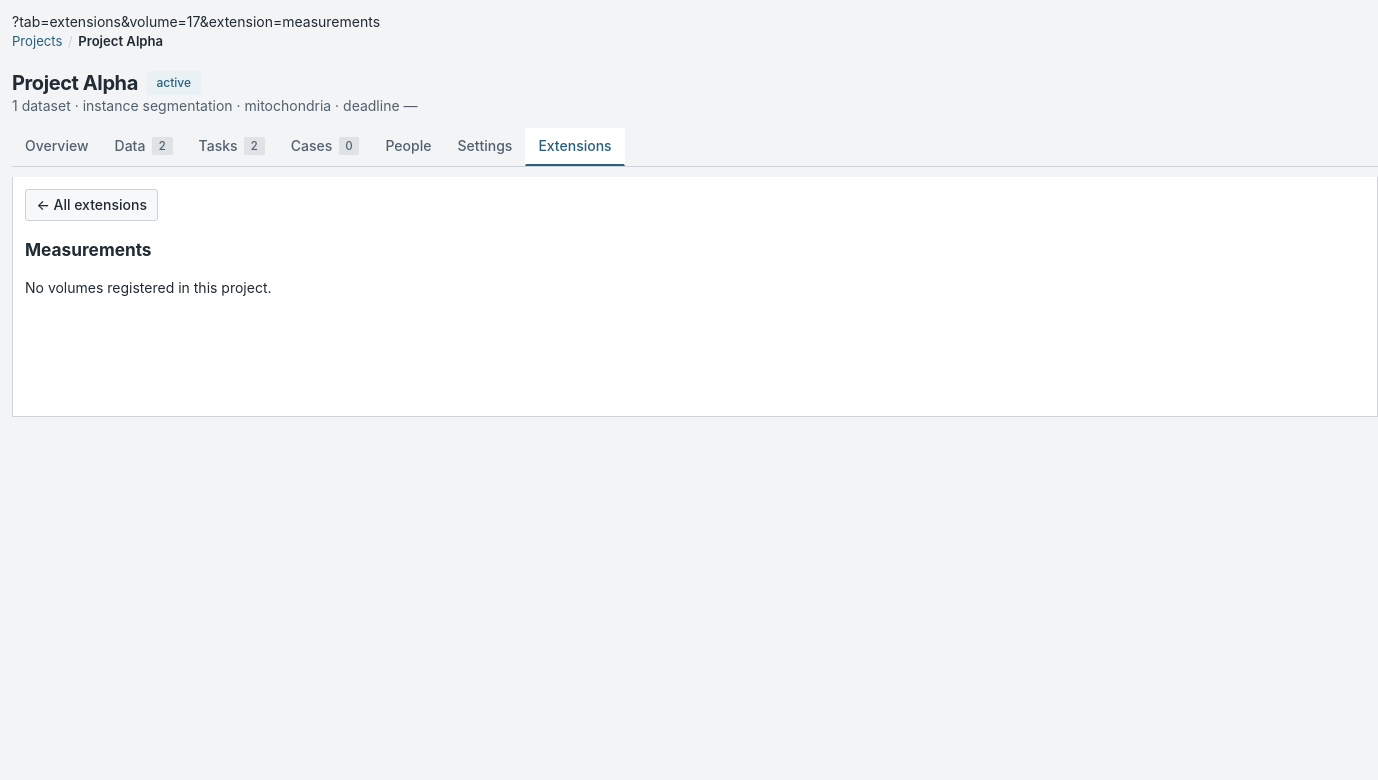
ProjectDetailPage tabs › preserves volume selection in legacy Measurements links
This screenshot has width=1378, height=780.
Expected: the text "No volumes registered in this project." is shown, [25,279,272,296]
Expected: the text named "Current project URL" reads "?tab=extensions&volume=17&extension=measurements", [12,13,380,30]
Click the button "← All extensions". click: (92,205)
box: [25,189,158,221]
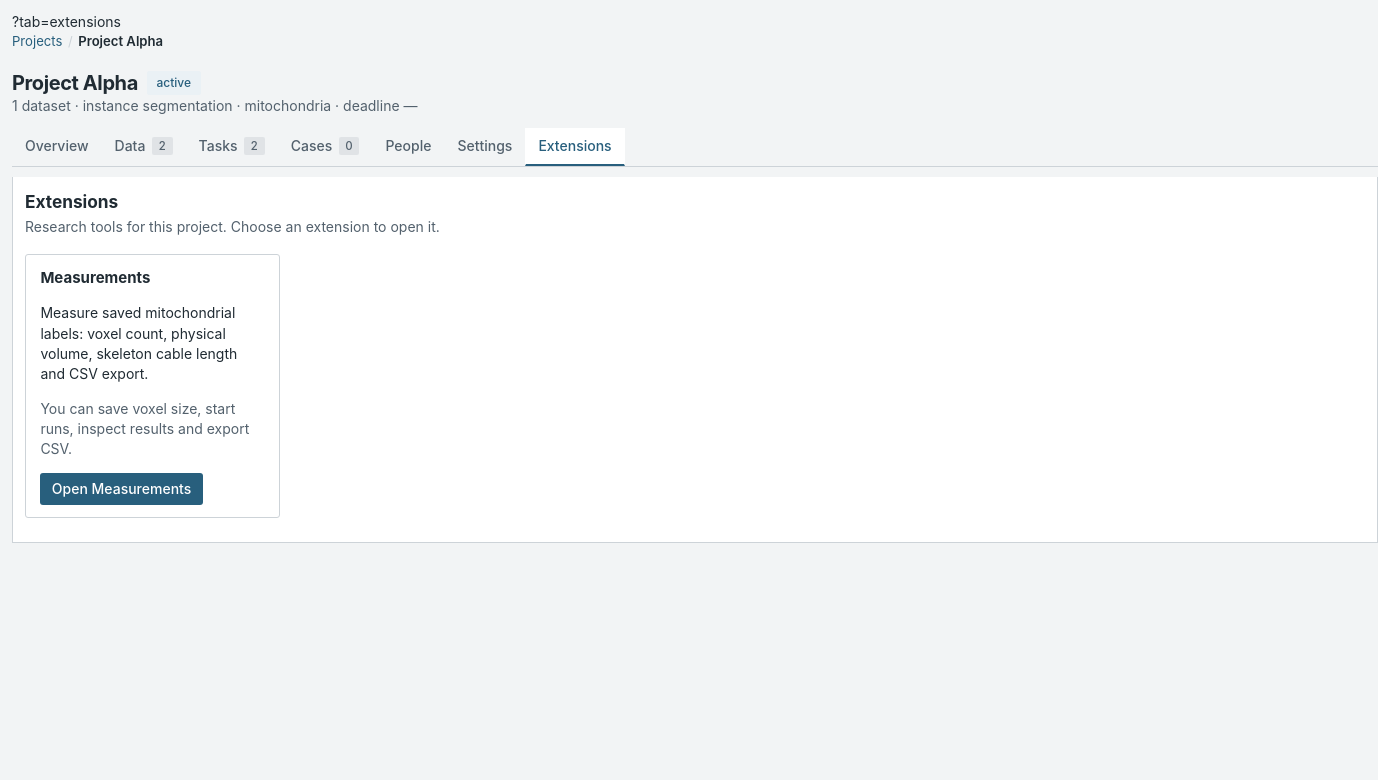
Result: the button "Open Measurements" is shown at [40,473,203,505]
